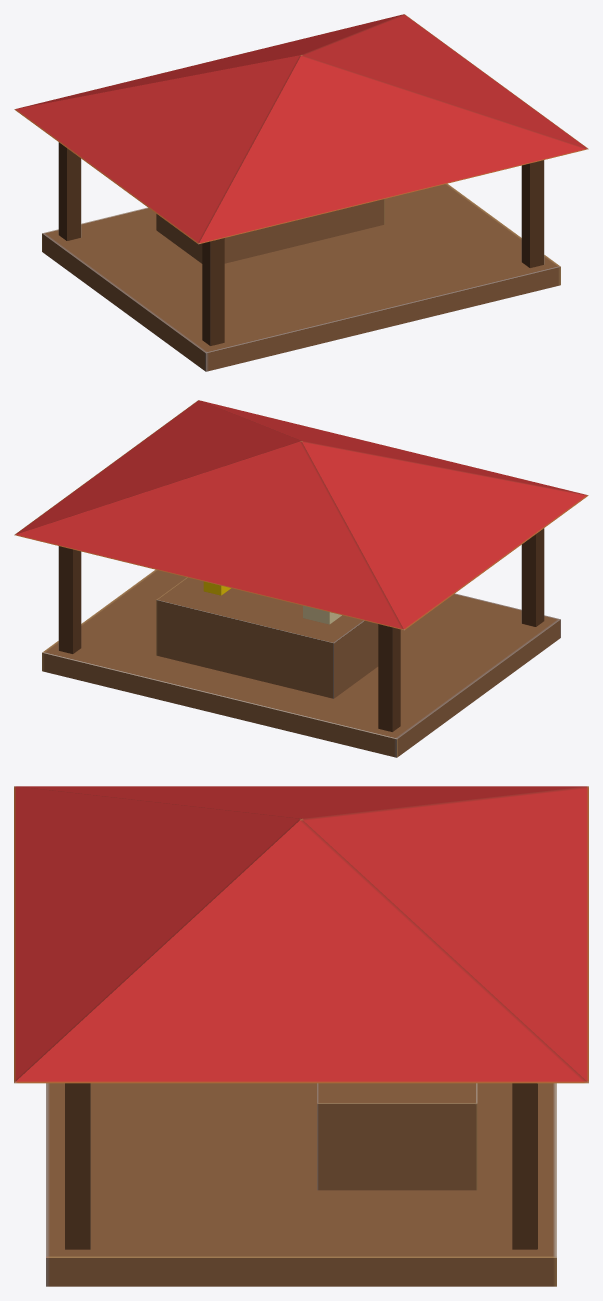
File: Market.fbx
3 views of the same model, one above another, from view 1: azimuth 30°, elevation 25°; view 2: azimuth 150°, elevation 25°; view 3: azimuth 270°, elevation 25° (orthographic). The views are drawn at different scales.
Parts seen in each view (by area): view 1: Market; view 2: Market; view 3: Market.
Part boxes in pixels (bbox=[...]): Market: bbox=[14, 14, 588, 371]; Market: bbox=[14, 400, 588, 757]; Market: bbox=[14, 786, 588, 1286].
Bounding box in the file's own units: 220 × 115 × 180.
1 material, 1 textured.
